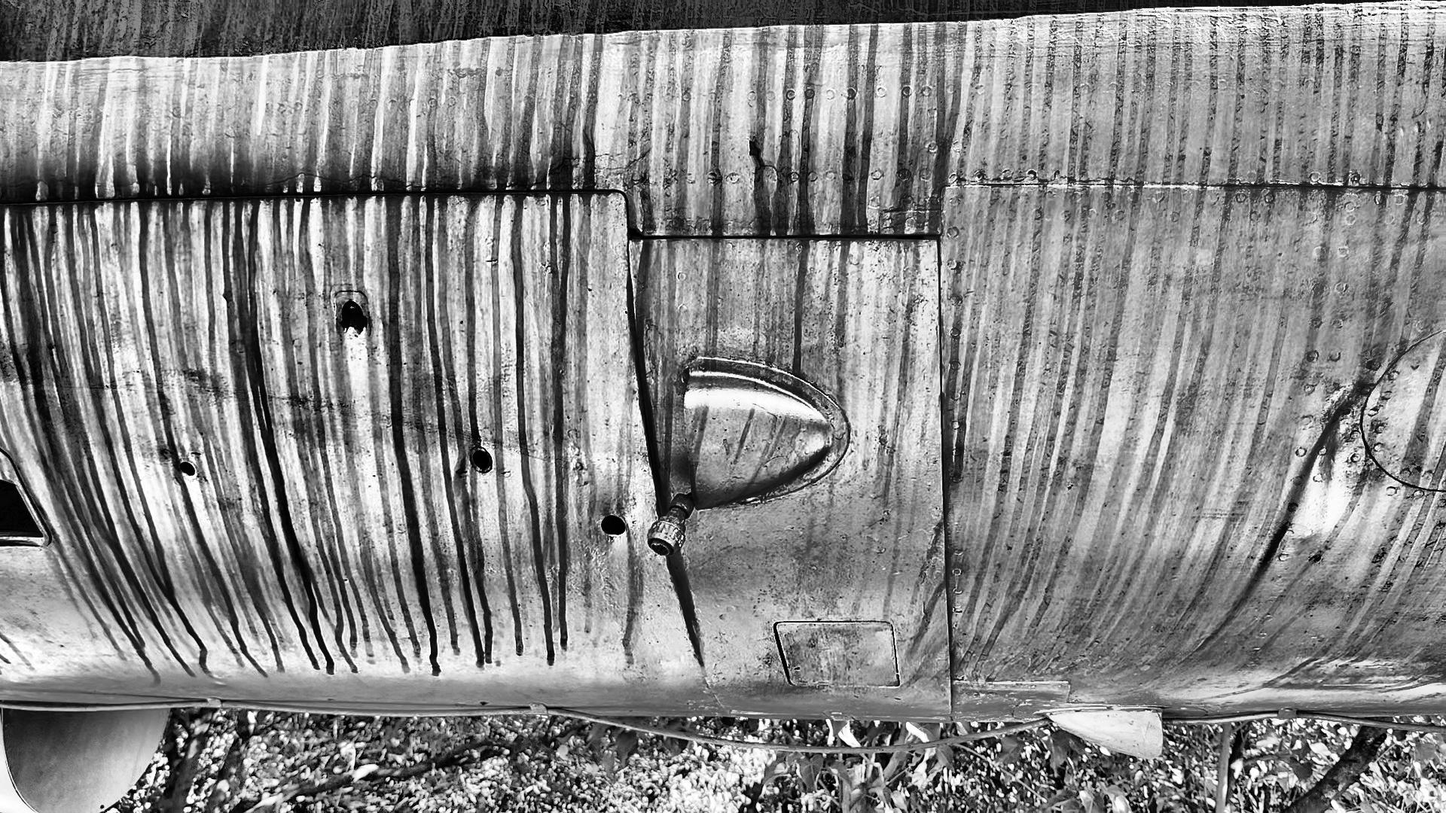dent: (1292, 418, 1346, 540)
paint-peel-off: (748, 141, 763, 171)
